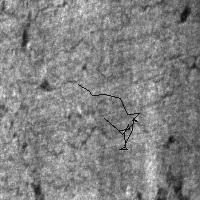crazing: (103, 24, 193, 113), (1, 25, 92, 94), (43, 98, 132, 156), (78, 84, 139, 149)
